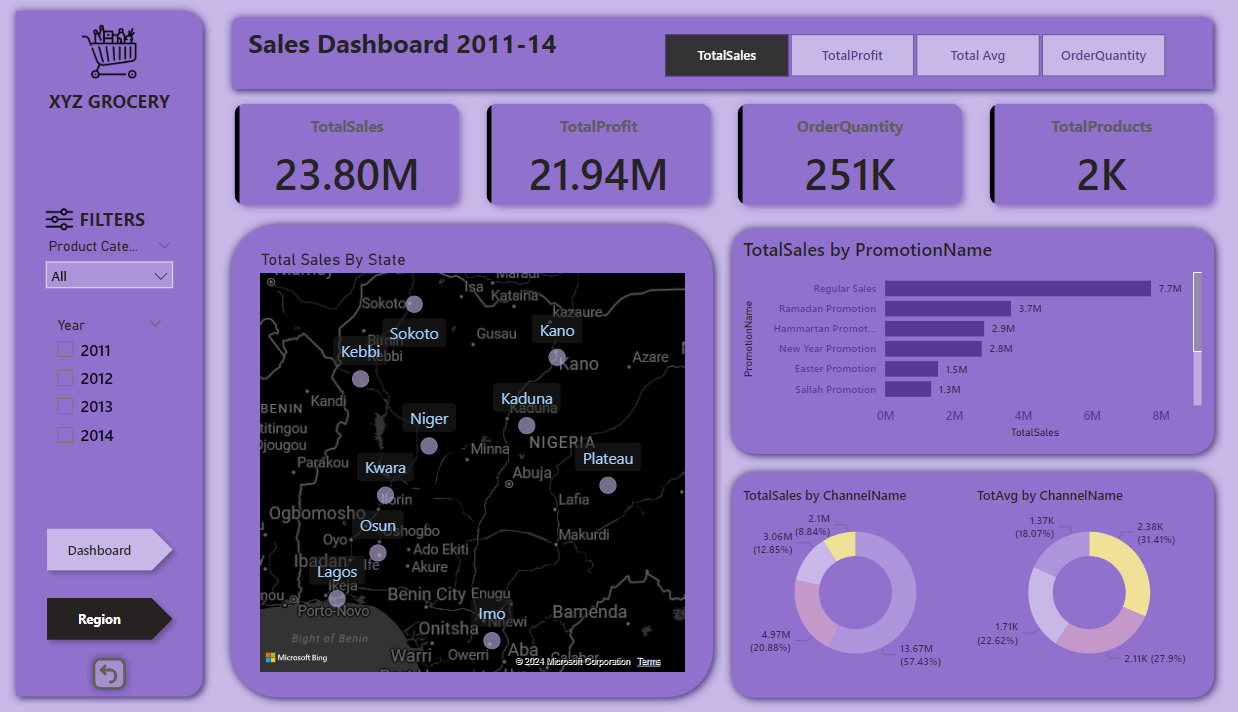

What the dashboard file says about the page in this screenshot:
{"tool":"powerbi","page":{"name":"Region","canvas":[1280,740],"ordinal":1},"visuals":[{"type":"textbox","box":[42.3,211.3,152.1,43.7],"z":0,"group":"g1"},{"type":"shape","box":[9.9,7,209.9,721.1],"z":0},{"type":"image","box":[43.7,209.9,40.8,38],"z":1000,"group":"g1"},{"type":"textbox","box":[31,90.1,169,67.6],"z":1000},{"type":"image","box":[71.8,23.9,85.9,66.2],"z":2000},{"type":"cardVisual","fields":{"Data":["Sales_data.TotalSales","Sales_data.TotalProfit","Sales_data.OrderQuantity","Sales_data.TotalProducts"]},"box":[226.8,93,1038,138],"z":3000},{"type":"shape","box":[232.4,12.7,1023.9,91.5],"z":4000},{"type":"textbox","box":[252.1,23.9,364.8,67.6],"z":5000},{"type":"shape","box":[231,225.4,512.7,502.8],"z":6000},{"type":"shape","box":[745.1,229.6,512.7,249.3],"z":7000},{"type":"shape","box":[745.1,478.9,512.7,249.3],"z":8000},{"type":"slicer","fields":{"Values":["Parameter.Parameter"]},"box":[659.2,32.4,563.4,57.7],"z":9000},{"type":"slicer","title":"Select y","fields":{"Values":["Sales_data.Order Date.Variation.Date Hierarchy.Year"]},"box":[49.3,323.9,132.4,145.1],"z":10000},{"type":"slicer","fields":{"Values":["Sales_Category.Product Category"]},"box":[39.4,243.7,150.7,83.1],"z":11000},{"type":"pageNavigator","box":[42.3,536.6,147.9,133.8],"z":12000},{"type":"map","title":"Total Sales By State","fields":{"Category":["Sales_state.State"]},"box":[264.8,260.6,445.1,438],"z":13000},{"type":"clusteredBarChart","fields":{"Y":["Sales_data.TotalSales"],"Category":["Sales_promotion.PromotionName"]},"box":[760.6,246.5,480.3,212.7],"z":14000},{"type":"donutChart","fields":{"Y":["Sales_data.TotalSales"],"Category":["Sales_channel.ChannelName"]},"box":[760.6,502.8,240.8,201.4],"z":15000},{"type":"donutChart","fields":{"Category":["Sales_channel.ChannelName"],"Y":["Sales_data.TotAvg"]},"box":[1000,502.8,240.8,201.4],"z":16000},{"type":"actionButton","box":[90.1,670.4,50.7,49.3],"z":17000},{"type":"group","id":"g1","title":"Group 1","box":[42.3,209.9,152.1,45.1],"z":18000}]}

Visuals, with their boxes in screenshot pixels (x1, y1, x2, y2), scaled from the page's 1280x740 canvas onto the 1238x712 screenshot:
textbox: pyautogui.locateOnScreen(41, 203, 188, 245)
shape: pyautogui.locateOnScreen(10, 7, 213, 701)
image: pyautogui.locateOnScreen(42, 202, 82, 239)
textbox: pyautogui.locateOnScreen(30, 87, 193, 152)
image: pyautogui.locateOnScreen(69, 23, 153, 87)
cardVisual - Sales_data.TotalSales x Sales_data.TotalProfit: pyautogui.locateOnScreen(219, 89, 1223, 222)
shape: pyautogui.locateOnScreen(225, 12, 1215, 100)
textbox: pyautogui.locateOnScreen(244, 23, 597, 88)
shape: pyautogui.locateOnScreen(223, 217, 719, 701)
shape: pyautogui.locateOnScreen(721, 221, 1217, 461)
shape: pyautogui.locateOnScreen(721, 461, 1217, 701)
slicer - Parameter.Parameter: pyautogui.locateOnScreen(638, 31, 1182, 87)
"Select y" slicer: pyautogui.locateOnScreen(48, 312, 176, 451)
slicer - Sales_Category.Product Category: pyautogui.locateOnScreen(38, 234, 184, 314)
pageNavigator: pyautogui.locateOnScreen(41, 516, 184, 645)
"Total Sales By State" map: pyautogui.locateOnScreen(256, 251, 687, 672)
clusteredBarChart - Sales_data.TotalSales x Sales_promotion.PromotionName: pyautogui.locateOnScreen(736, 237, 1200, 442)
donutChart - Sales_data.TotalSales x Sales_channel.ChannelName: pyautogui.locateOnScreen(736, 484, 969, 678)
donutChart - Sales_channel.ChannelName x Sales_data.TotAvg: pyautogui.locateOnScreen(967, 484, 1200, 678)
actionButton: pyautogui.locateOnScreen(87, 645, 136, 692)
"Group 1" group: pyautogui.locateOnScreen(41, 202, 188, 245)
